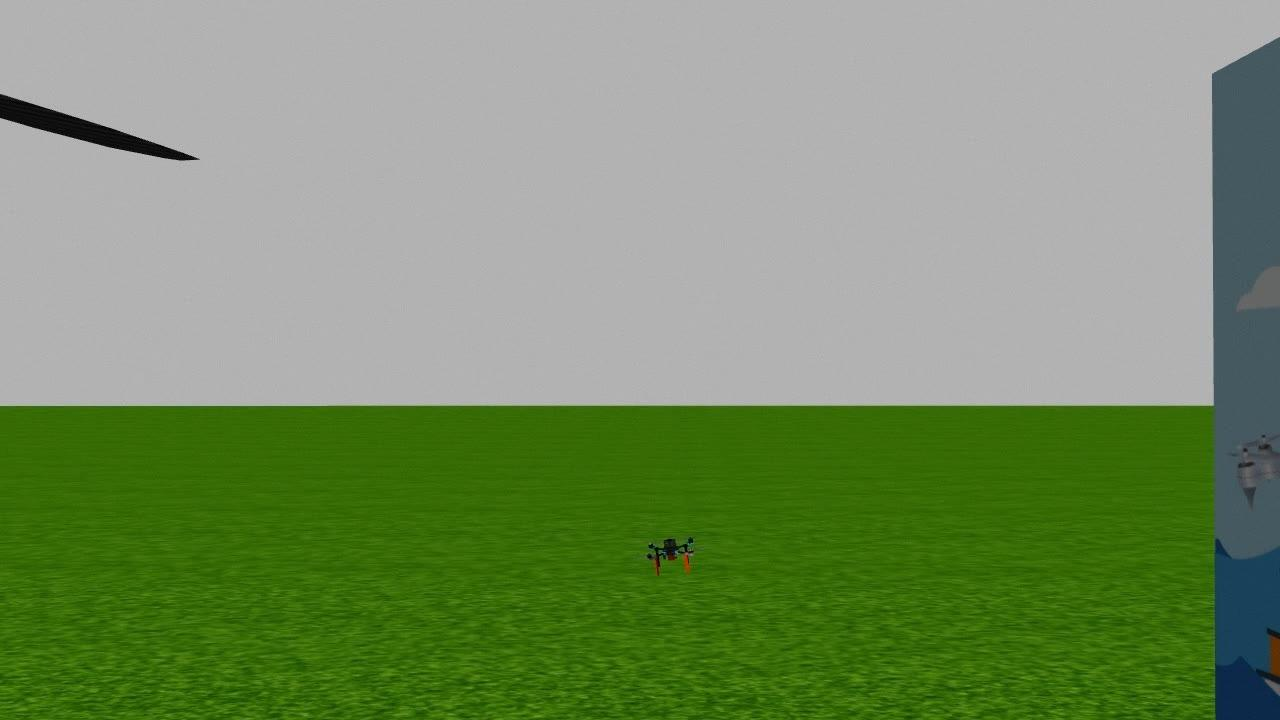UAV: (626, 526, 716, 586)
